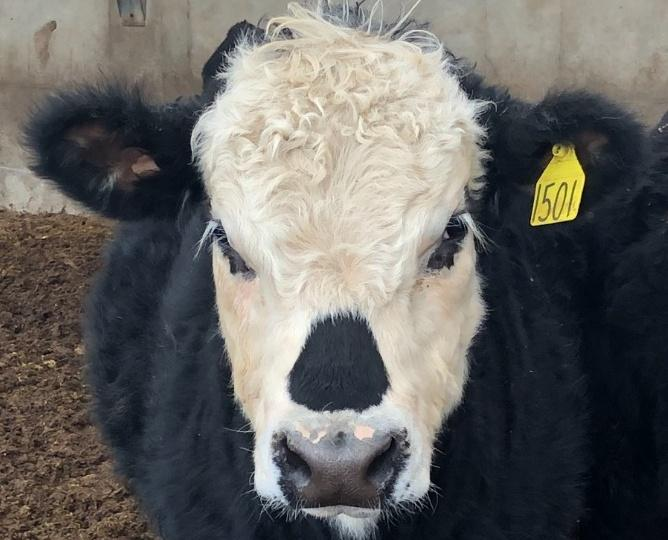muzzles: (241, 409, 440, 529)
